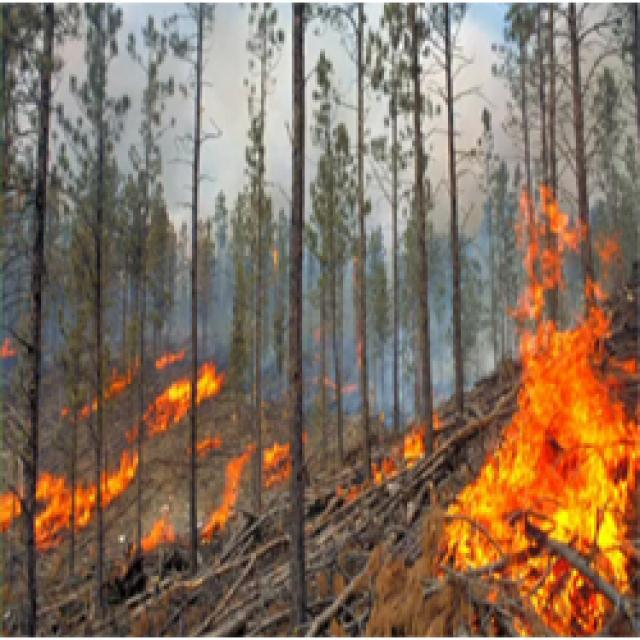Fire: (507, 193, 640, 640), (443, 431, 508, 569), (0, 472, 73, 556), (144, 365, 228, 428), (73, 454, 137, 528), (202, 449, 252, 536), (330, 460, 400, 502), (81, 366, 130, 412), (397, 414, 441, 464), (258, 444, 296, 486), (142, 519, 176, 553), (185, 436, 222, 456), (146, 348, 188, 364), (1, 337, 18, 358)
Smoke: (97, 0, 640, 193), (383, 232, 503, 414), (166, 225, 234, 353)
